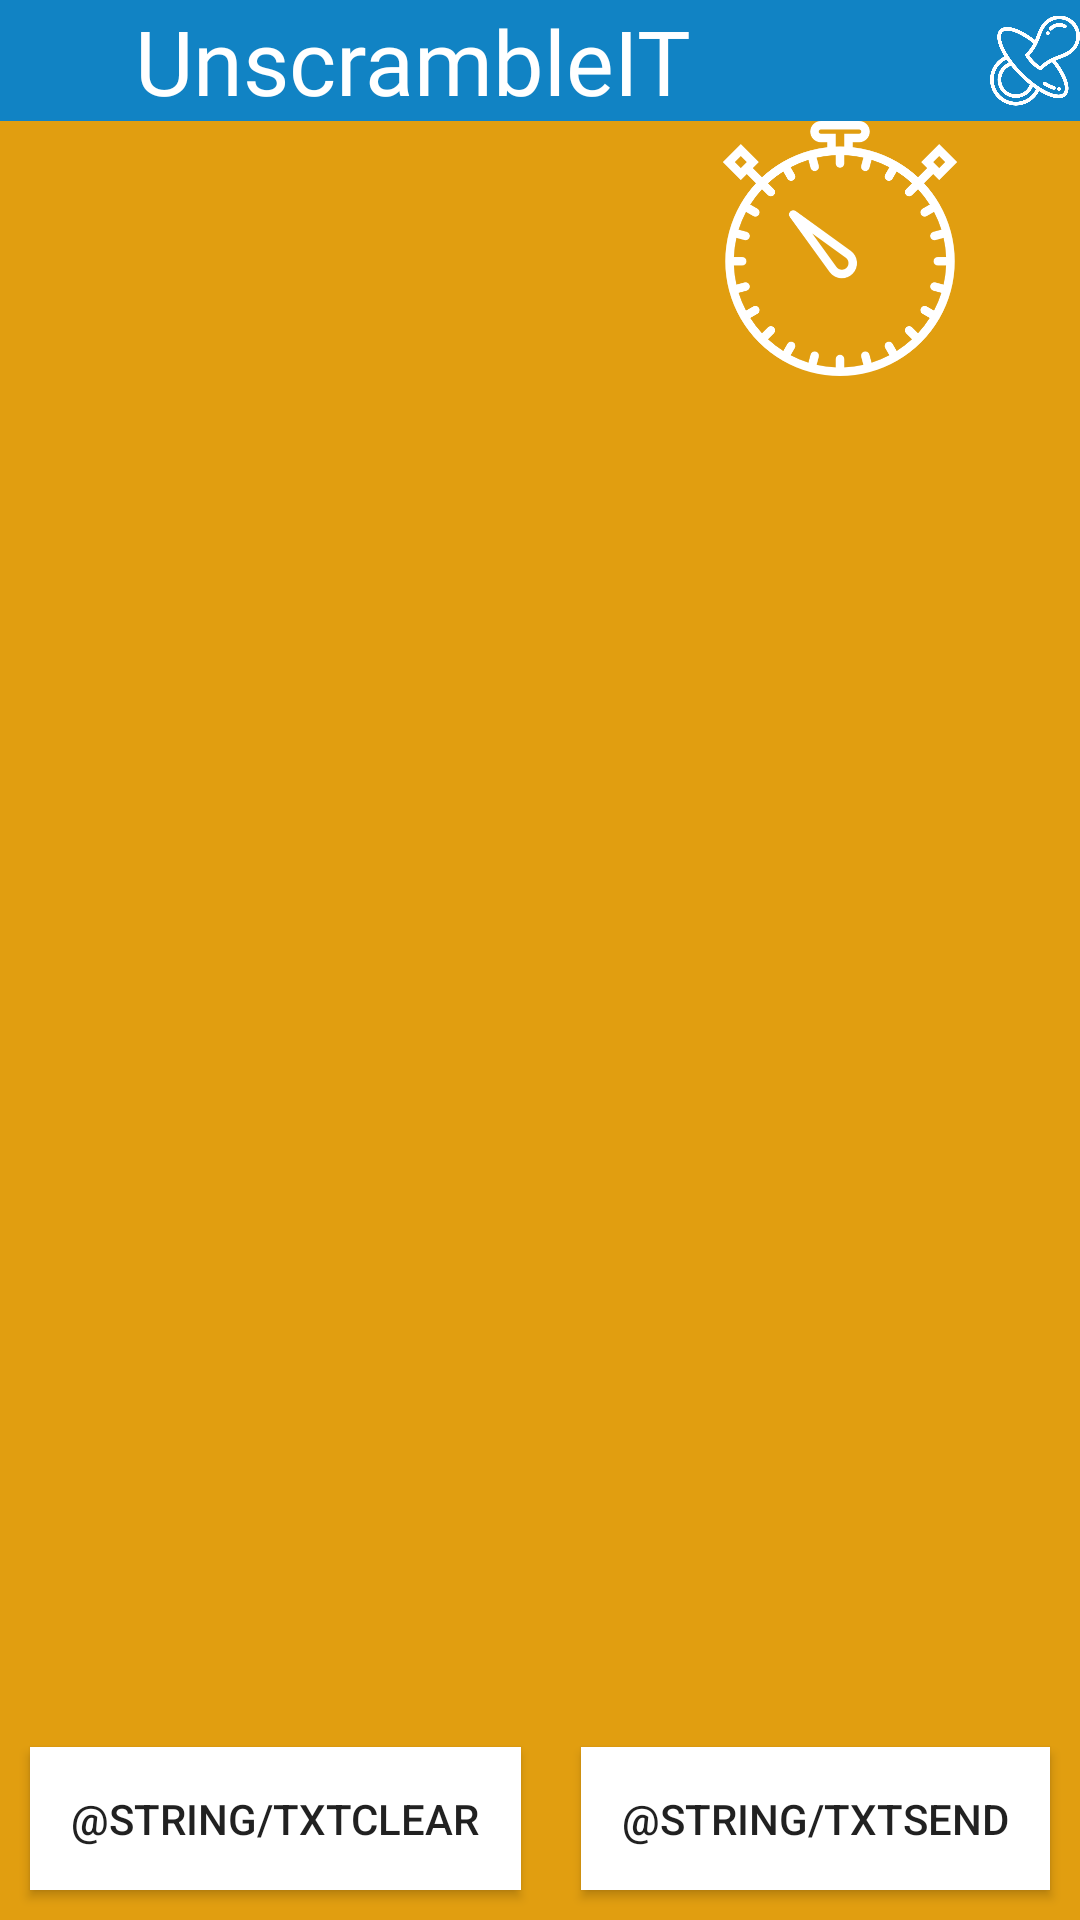

Where to tap for icons on this 1080×1920 app screen, as [x,y]:
beginner: [1035,61]
